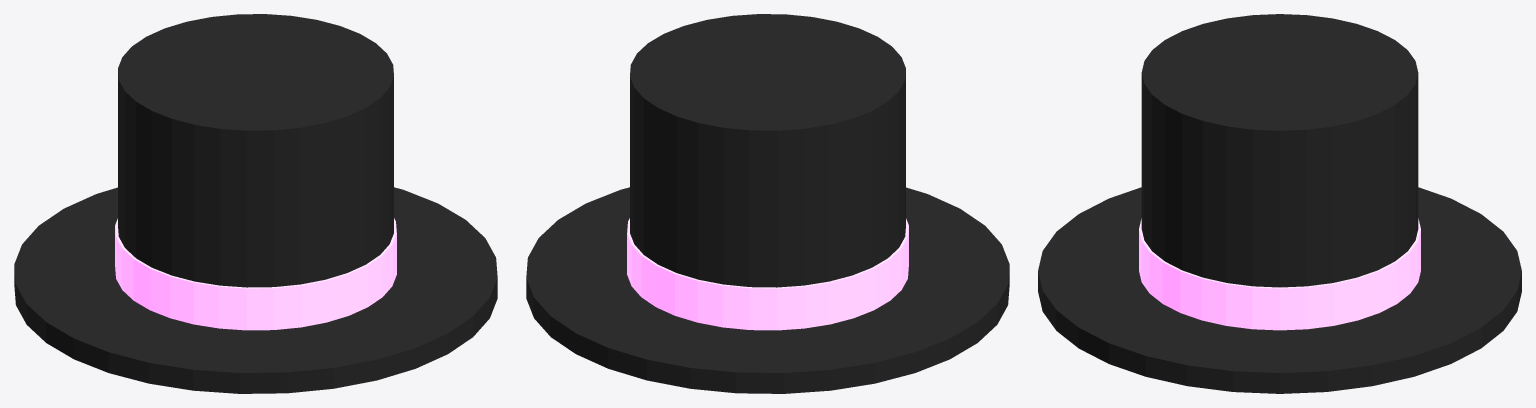
Rendered from SM_SpiderPulse_TopHat.glb.
The picture shows the model from 3 angles, left to right: view 1: azimuth 30°, elevation 25°; view 2: azimuth 150°, elevation 25°; view 3: azimuth 270°, elevation 25°; orthographic projection.
Parts seen in each view (by area): view 1: SM_SpiderPulse_TopHat; view 2: SM_SpiderPulse_TopHat; view 3: SM_SpiderPulse_TopHat.
Boxes of the visible parts, x1,y1,x2,y2 form: SM_SpiderPulse_TopHat: [14, 14, 497, 393]; SM_SpiderPulse_TopHat: [526, 14, 1009, 393]; SM_SpiderPulse_TopHat: [1038, 14, 1521, 393].
Size of the model in its own units: 0.84 by 0.42 by 0.84.
